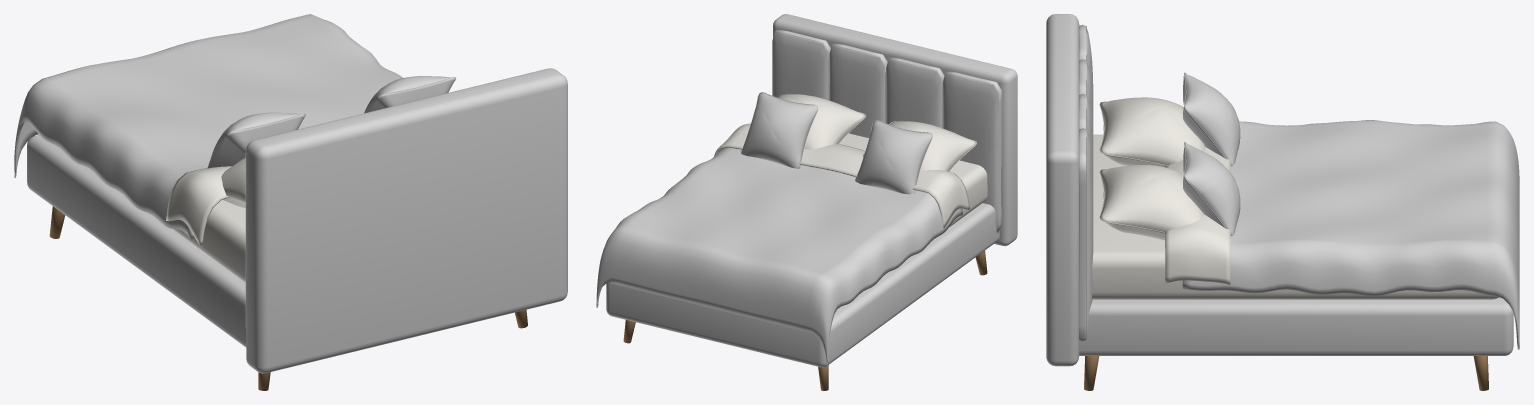
Rendered from bed-upholstered-full.glb.
3 views of the same model, side by side, from view 1: azimuth 30°, elevation 25°; view 2: azimuth 150°, elevation 25°; view 3: azimuth 270°, elevation 25° (orthographic). The views are drawn at different scales.
Parts seen in each view (by area): view 1: Padded headboard, Soft draped duvet, Upholstered platform, Turned-back duvet edge, Rounded mattress, Loose accent pillow, Loose accent pillow.001, Sleeping pillow; view 2: Soft draped duvet, Upholstered platform, Padded headboard, Headboard padded channel, Headboard padded channel.002, Loose accent pillow.001, Loose accent pillow, Turned-back duvet edge, Headboard padded channel.003, Headboard padded channel.001, Sleeping pillow.001, Sleeping pillow (+1 smaller); view 3: Soft draped duvet, Upholstered platform, Padded headboard, Rounded mattress, Sleeping pillow.001, Sleeping pillow, Turned-back duvet edge, Loose accent pillow, Loose accent pillow.001, Headboard padded channel.003, Headboard padded channel.002, Headboard padded channel.001 (+3 smaller).
Boxes of the visible parts, box(x1,y1,x2,y2) form: Padded headboard: box(246, 68, 567, 373); Soft draped duvet: box(14, 14, 403, 240); Upholstered platform: box(27, 135, 246, 347); Turned-back duvet edge: box(166, 166, 231, 246); Rounded mattress: box(173, 200, 245, 282); Loose accent pillow: box(207, 112, 305, 168); Loose accent pillow.001: box(364, 76, 455, 113); Sleeping pillow: box(221, 157, 245, 207); Soft draped duvet: box(596, 148, 962, 364); Upholstered platform: box(606, 203, 999, 367); Padded headboard: box(773, 14, 1017, 246); Headboard padded channel: box(943, 71, 1001, 232); Headboard padded channel.002: box(829, 43, 887, 137); Loose accent pillow.001: box(741, 92, 817, 168); Loose accent pillow: box(855, 120, 932, 194); Turned-back duvet edge: box(714, 123, 969, 228); Headboard padded channel.003: box(772, 29, 830, 99); Headboard padded channel.001: box(886, 57, 944, 127); Sleeping pillow.001: box(778, 94, 865, 149); Sleeping pillow: box(863, 121, 976, 171); Soft draped duvet: box(1182, 120, 1519, 349); Upholstered platform: box(1079, 297, 1513, 355); Padded headboard: box(1046, 14, 1079, 366); Rounded mattress: box(1092, 134, 1498, 299); Sleeping pillow.001: box(1100, 165, 1203, 240); Sleeping pillow: box(1100, 97, 1204, 167); Turned-back duvet edge: box(1165, 147, 1230, 284); Loose accent pillow: box(1183, 73, 1240, 165); Loose accent pillow.001: box(1183, 142, 1240, 235); Headboard padded channel.003: box(1079, 128, 1093, 341); Headboard padded channel.002: box(1079, 94, 1093, 184); Headboard padded channel.001: box(1079, 59, 1093, 148).
Bounding box in the file's own units: 1.4 × 1.12 × 1.94.
Materials: 3 (1 with a texture image).
